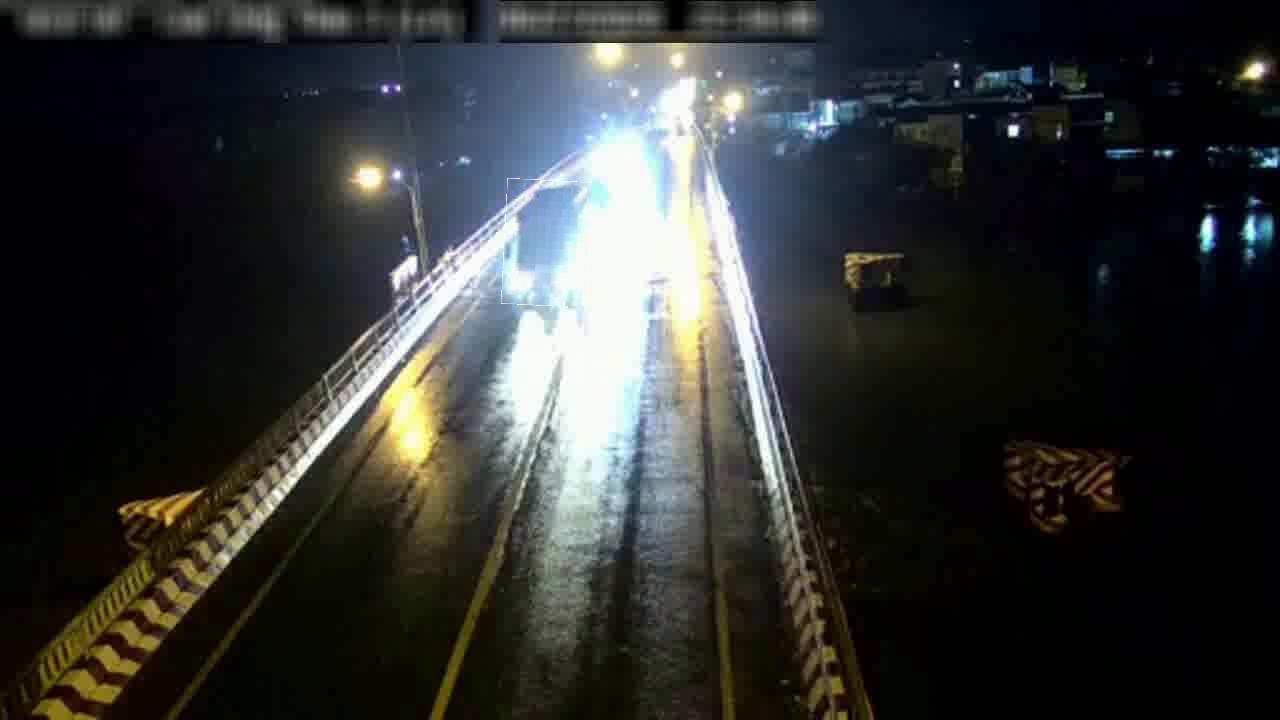container: (503, 179, 591, 306)
